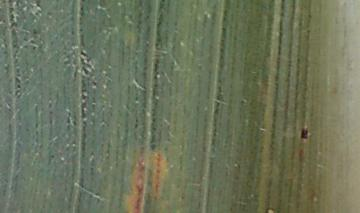tarspot: (300, 128, 309, 140)
